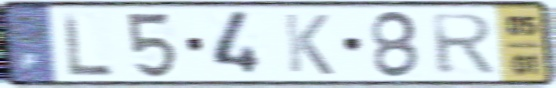4: (207, 7, 270, 80)
5: (123, 9, 181, 79)
8: (368, 8, 422, 80)
K: (281, 11, 337, 78)
L: (60, 10, 117, 79)
R: (427, 11, 499, 77)
